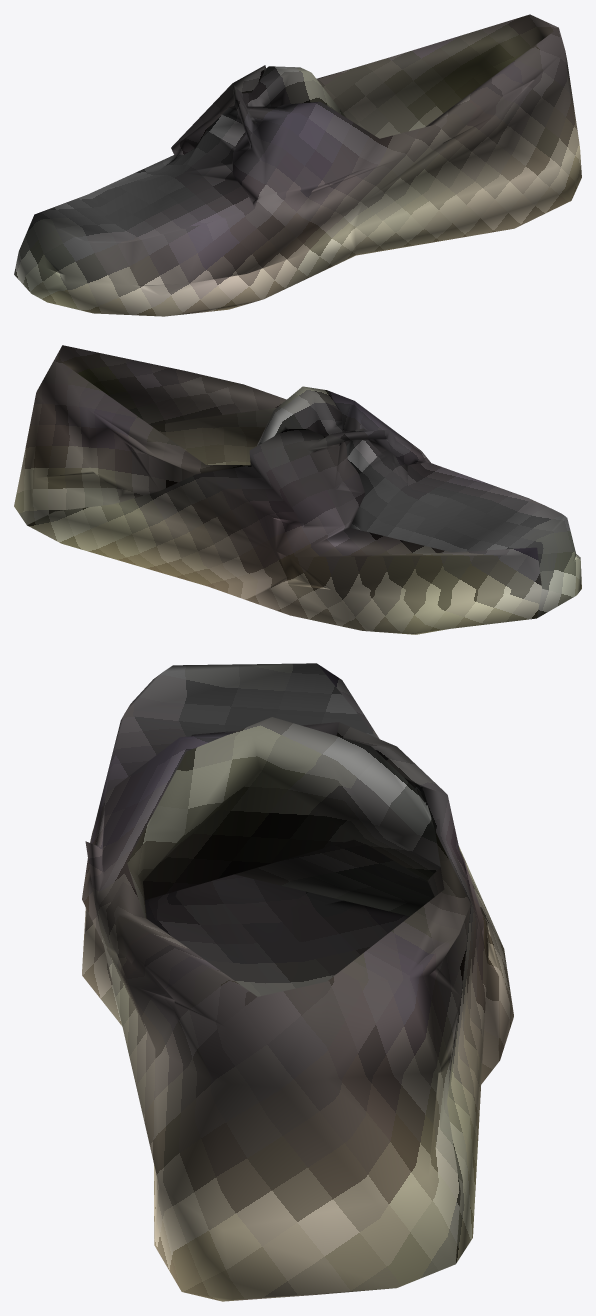
File: Mens_Authentic_Original_Boat_Shoe_in_Navy_Leather_RpT4GvUXRRP-low.glb
3 views of the same model, one above another, from view 1: azimuth 30°, elevation 25°; view 2: azimuth 150°, elevation 25°; view 3: azimuth 270°, elevation 25° (orthographic). The views are drawn at different scales.
Parts seen in each view (by area): view 1: Mens_Authentic_Original_Boat_Shoe_in_Navy_Leather_RpT4GvUXRR; view 2: Mens_Authentic_Original_Boat_Shoe_in_Navy_Leather_RpT4GvUXRR; view 3: Mens_Authentic_Original_Boat_Shoe_in_Navy_Leather_RpT4GvUXRR.
Boxes of the visible parts, box(x1,y1,x2,y2) form: Mens_Authentic_Original_Boat_Shoe_in_Navy_Leather_RpT4GvUXRR: box(14, 14, 581, 316); Mens_Authentic_Original_Boat_Shoe_in_Navy_Leather_RpT4GvUXRR: box(14, 345, 581, 634); Mens_Authentic_Original_Boat_Shoe_in_Navy_Leather_RpT4GvUXRR: box(82, 663, 513, 1301).
Bounding box in the file's own units: 0.2463 × 0.0798 × 0.0875.
Materials: 1 (1 with a texture image).
